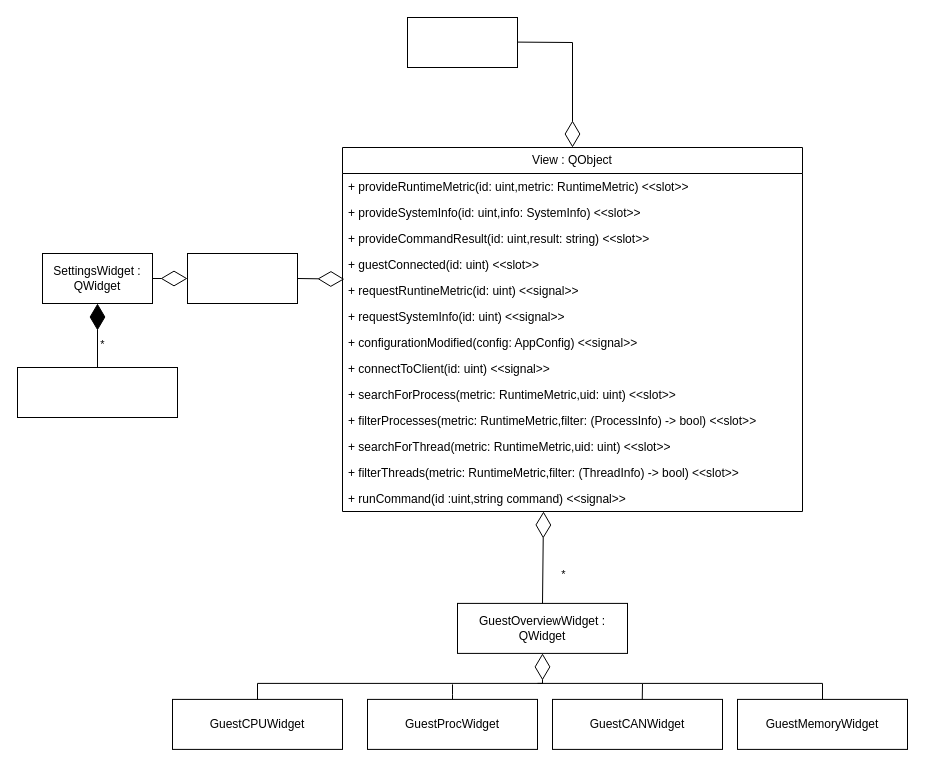
Image size: 925x768. Some labels were removed from this diagram. The shapes that lost their labels are listed below. From the top down, each one's centre as x and y in pixels, then its label:
At (x=462, y=42): "AppConfig".
At (x=242, y=278): "MainMenu : QWidget".
At (x=97, y=392): "MonitorConfigurationMenu : QWidget".
